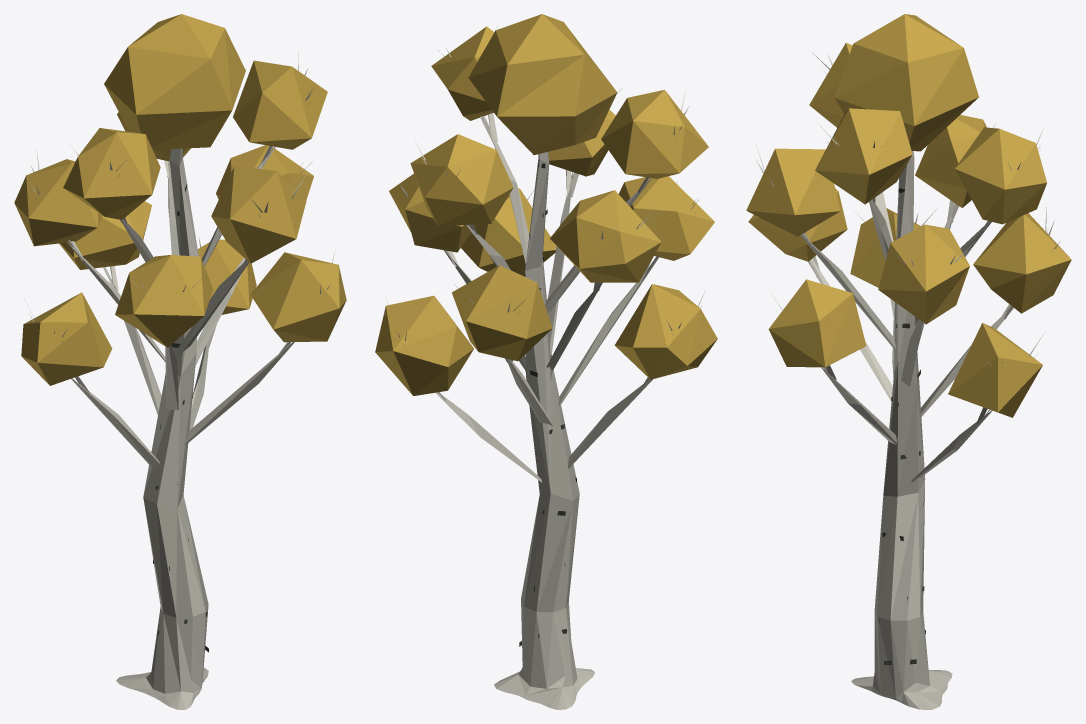
The model's file is birch_autumn.glb.
3 views of the same model, side by side, from view 1: azimuth 30°, elevation 25°; view 2: azimuth 150°, elevation 25°; view 3: azimuth 270°, elevation 25° (orthographic).
Visible parts, largest first — view 1: leaves, branches; view 2: leaves, branches; view 3: leaves, branches.
Boxes of the visible parts, x1,y1,x2,y2 form: leaves: [14, 14, 346, 385]; branches: [24, 51, 335, 709]; leaves: [375, 14, 717, 395]; branches: [384, 30, 704, 709]; leaves: [746, 14, 1071, 417]; branches: [756, 53, 1059, 709].
Size of the model in its own units: 2.7 by 5.7 by 2.48.
